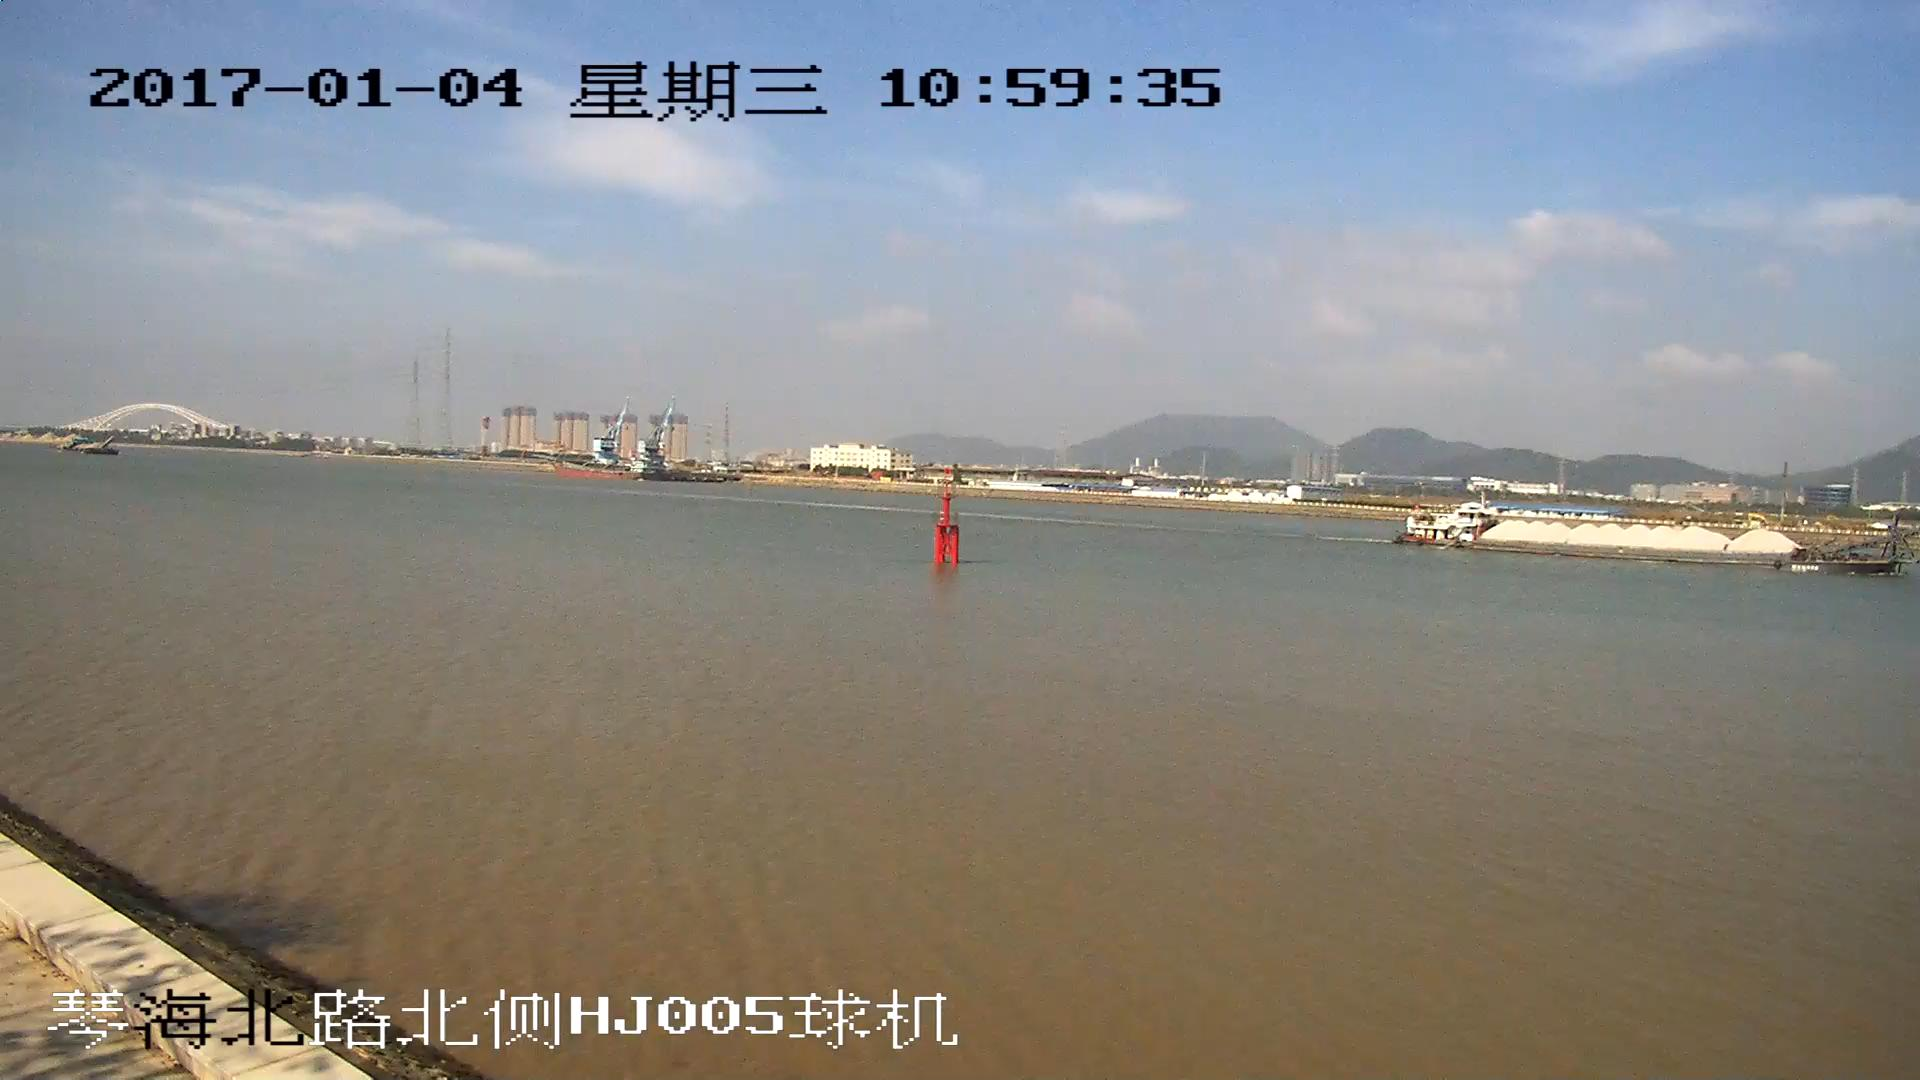ore carrier: (1398, 497, 1920, 578)
